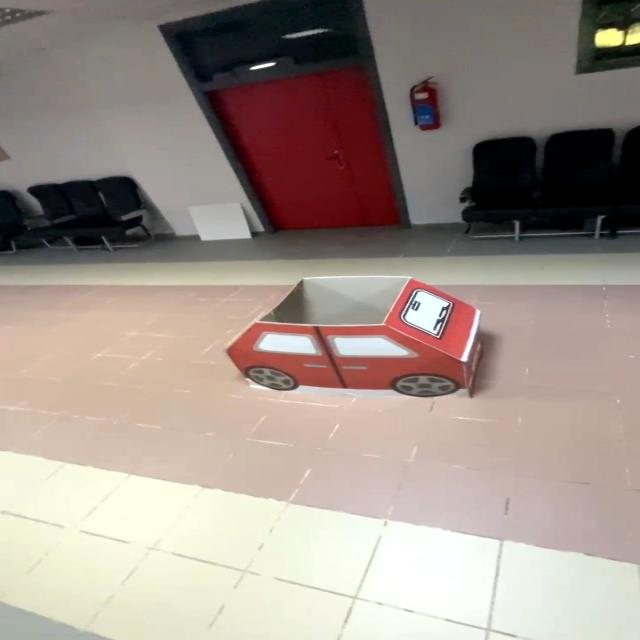red_car: (192, 263, 524, 421)
